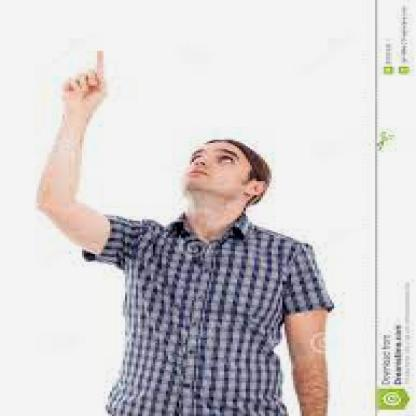Up: (49, 43, 127, 125)
